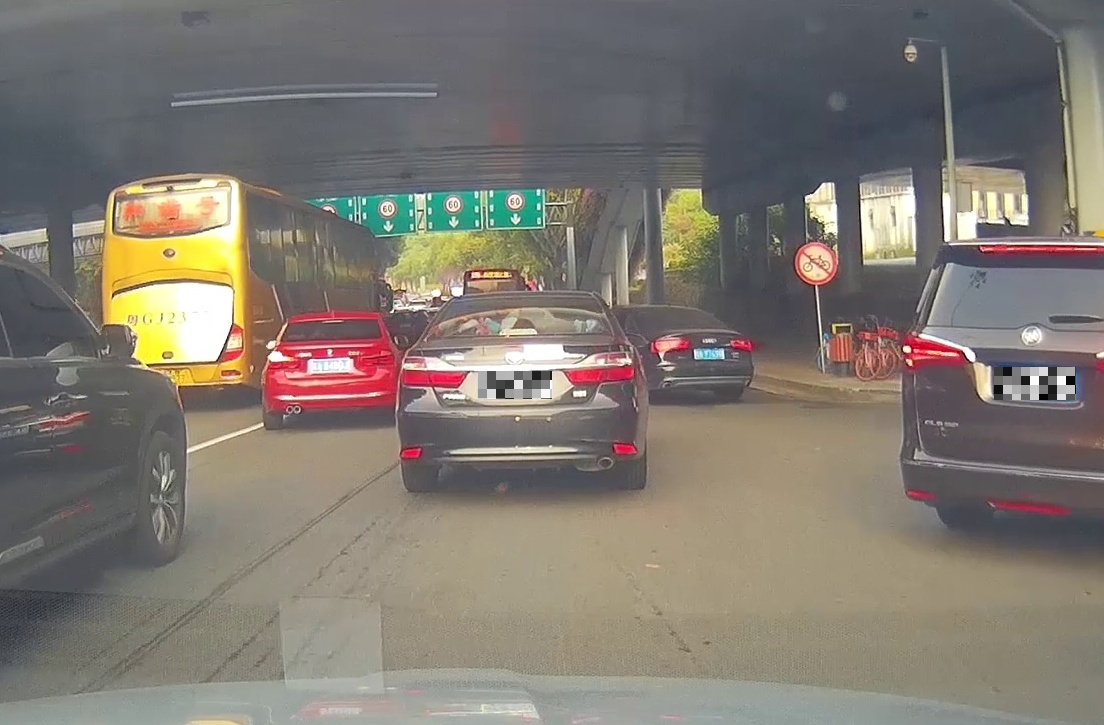L_light: (400, 356, 468, 389), (267, 350, 300, 369)
R_light: (561, 350, 635, 386), (359, 349, 394, 365)
T_light: (498, 328, 537, 335), (322, 320, 343, 323)
day-left: (261, 312, 396, 431)
day-no: (397, 291, 647, 491)
plate_1: (478, 371, 552, 399)
plate_2: (994, 367, 1076, 400)
